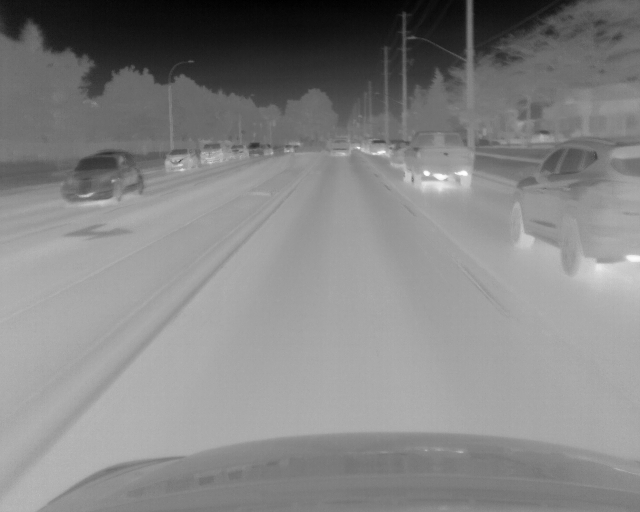car: (507, 138, 640, 276), (61, 151, 145, 204), (403, 132, 471, 188), (164, 148, 196, 171), (200, 142, 227, 164), (389, 141, 406, 168), (331, 139, 351, 156), (368, 138, 385, 155), (229, 144, 247, 160), (249, 142, 263, 158)
